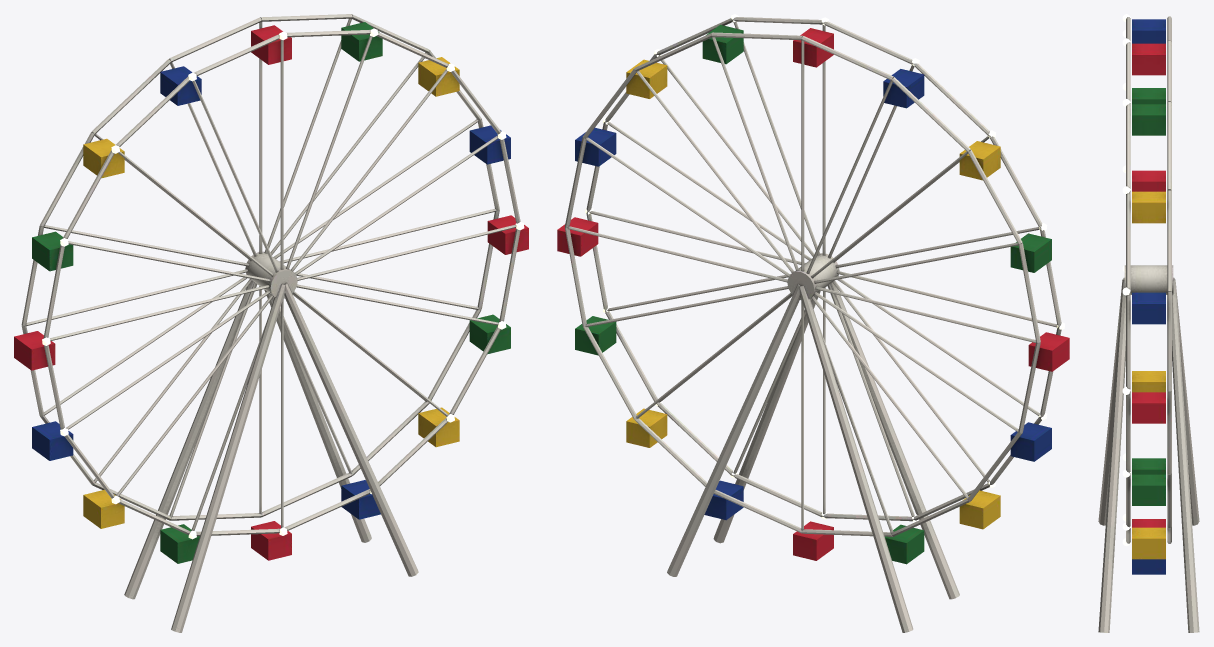
File: feria_noria.glb
3 views of the same model, side by side, from view 1: azimuth 30°, elevation 25°; view 2: azimuth 150°, elevation 25°; view 3: azimuth 270°, elevation 25° (orthographic). The views are drawn at different scales.
Parts seen in each view (by area): view 1: feria_noria; view 2: feria_noria; view 3: feria_noria.
Boxes of the visible parts, <box> form: feria_noria: <box>14,14,528,632</box>; feria_noria: <box>557,14,1069,632</box>; feria_noria: <box>1098,14,1199,632</box>.
Size of the model in its own units: 29.4 by 31.86 by 5.4.
1 material, 1 textured.
